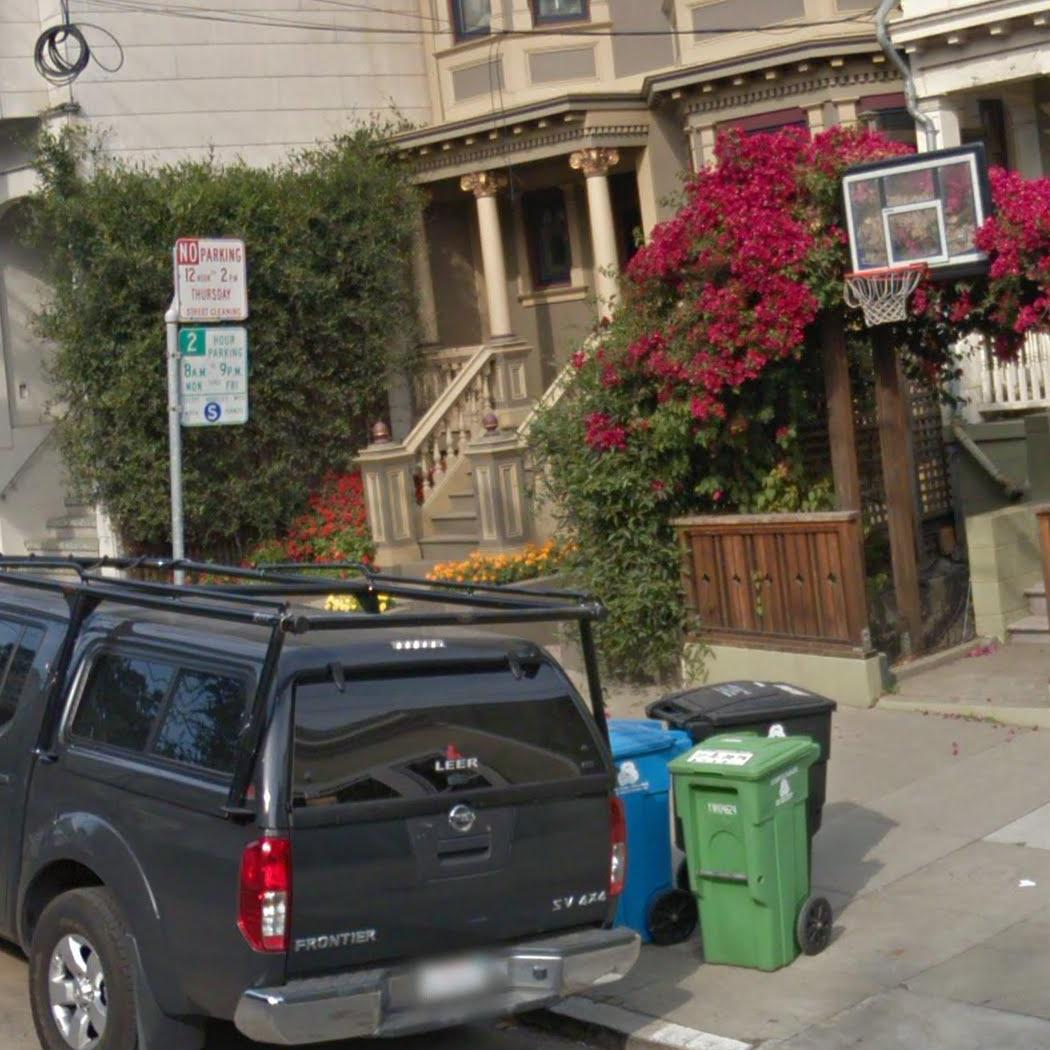2 Hour Parking: (169, 320, 253, 430)
No Parking: (170, 234, 253, 325)
